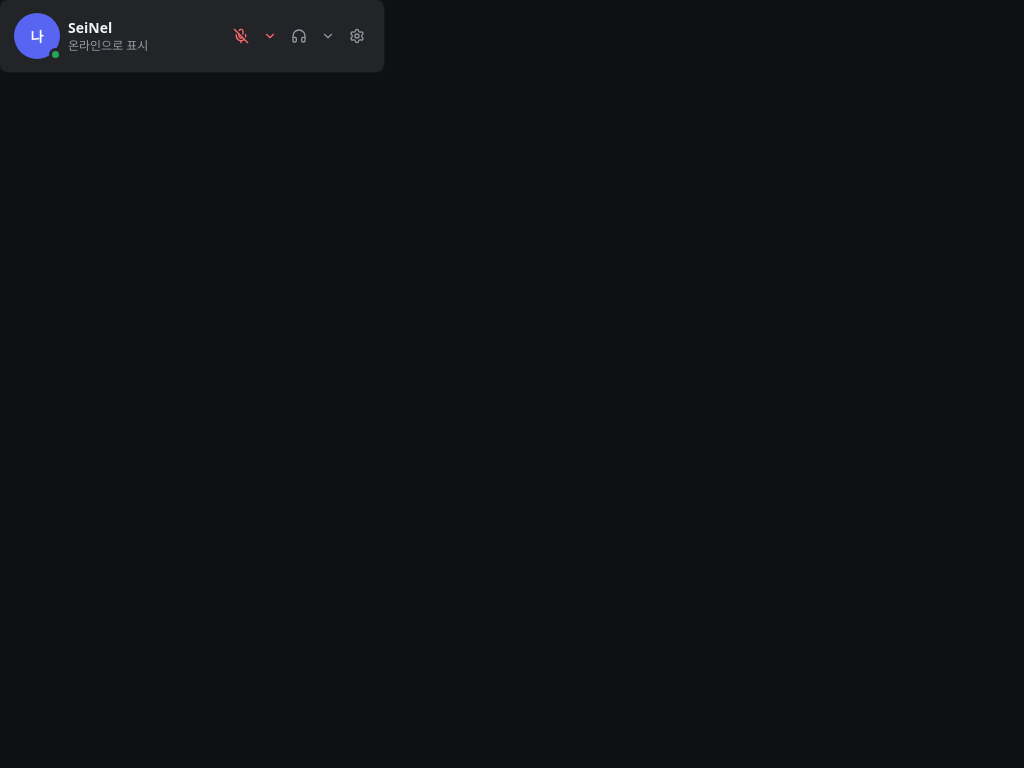
UserPanel › uses one profile-photo editor instead of exposing the stored attachment URL
Click the button named "사용자 설정": (357, 36) [340, 19, 374, 53]
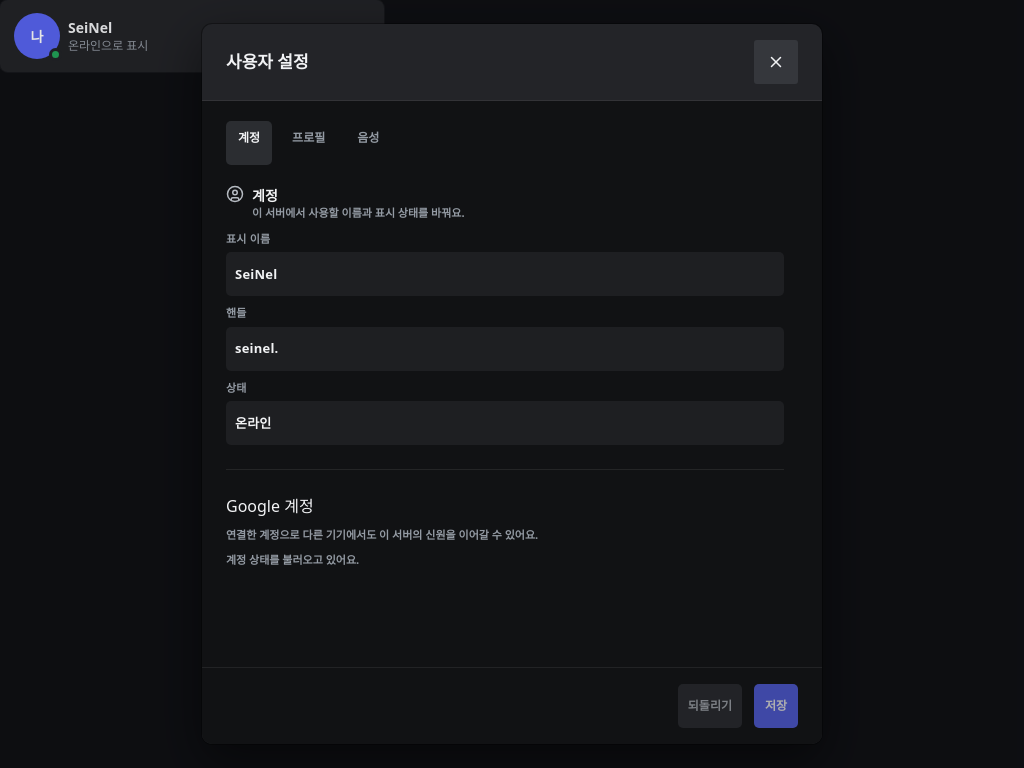
Click the button "프로필": (309, 143) [280, 121, 337, 165]
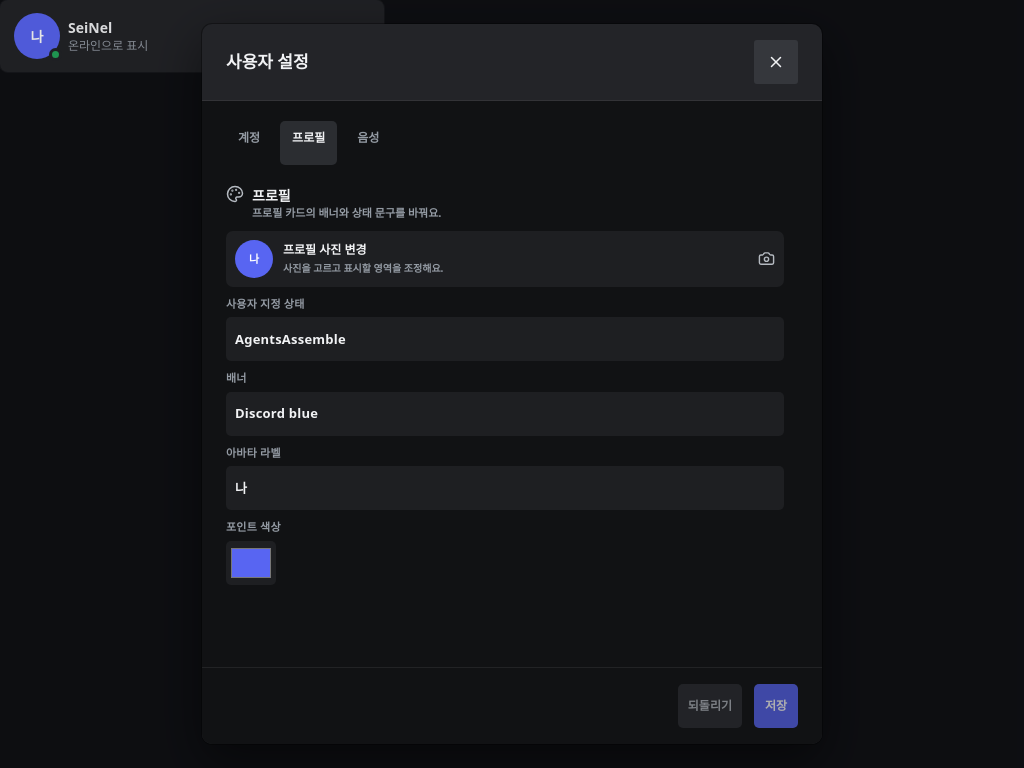
Click the button "나 프로필 사진 변경 사진을 고르고 표시할 영역을 조정해요.": (254, 259) [226, 231, 784, 287]
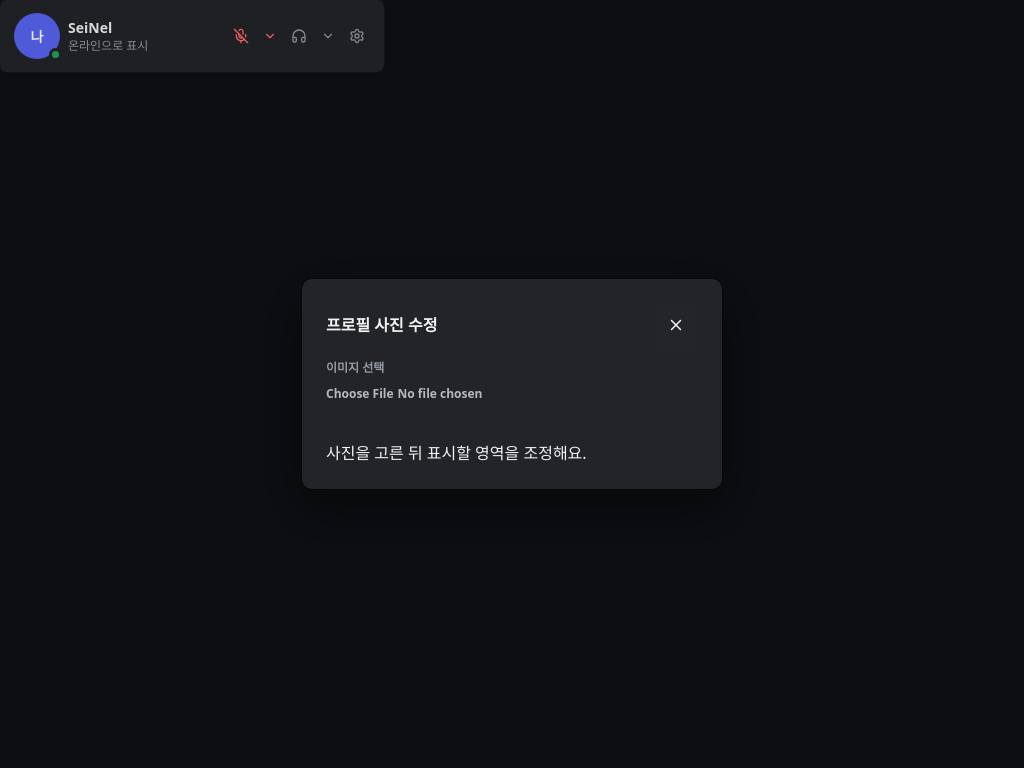
expect the file field labelled "이미지 선택" is shown: met, box [326, 385, 698, 429]
expect the dialog "프로필 사진 수정" is shown: met, box [302, 279, 722, 489]
